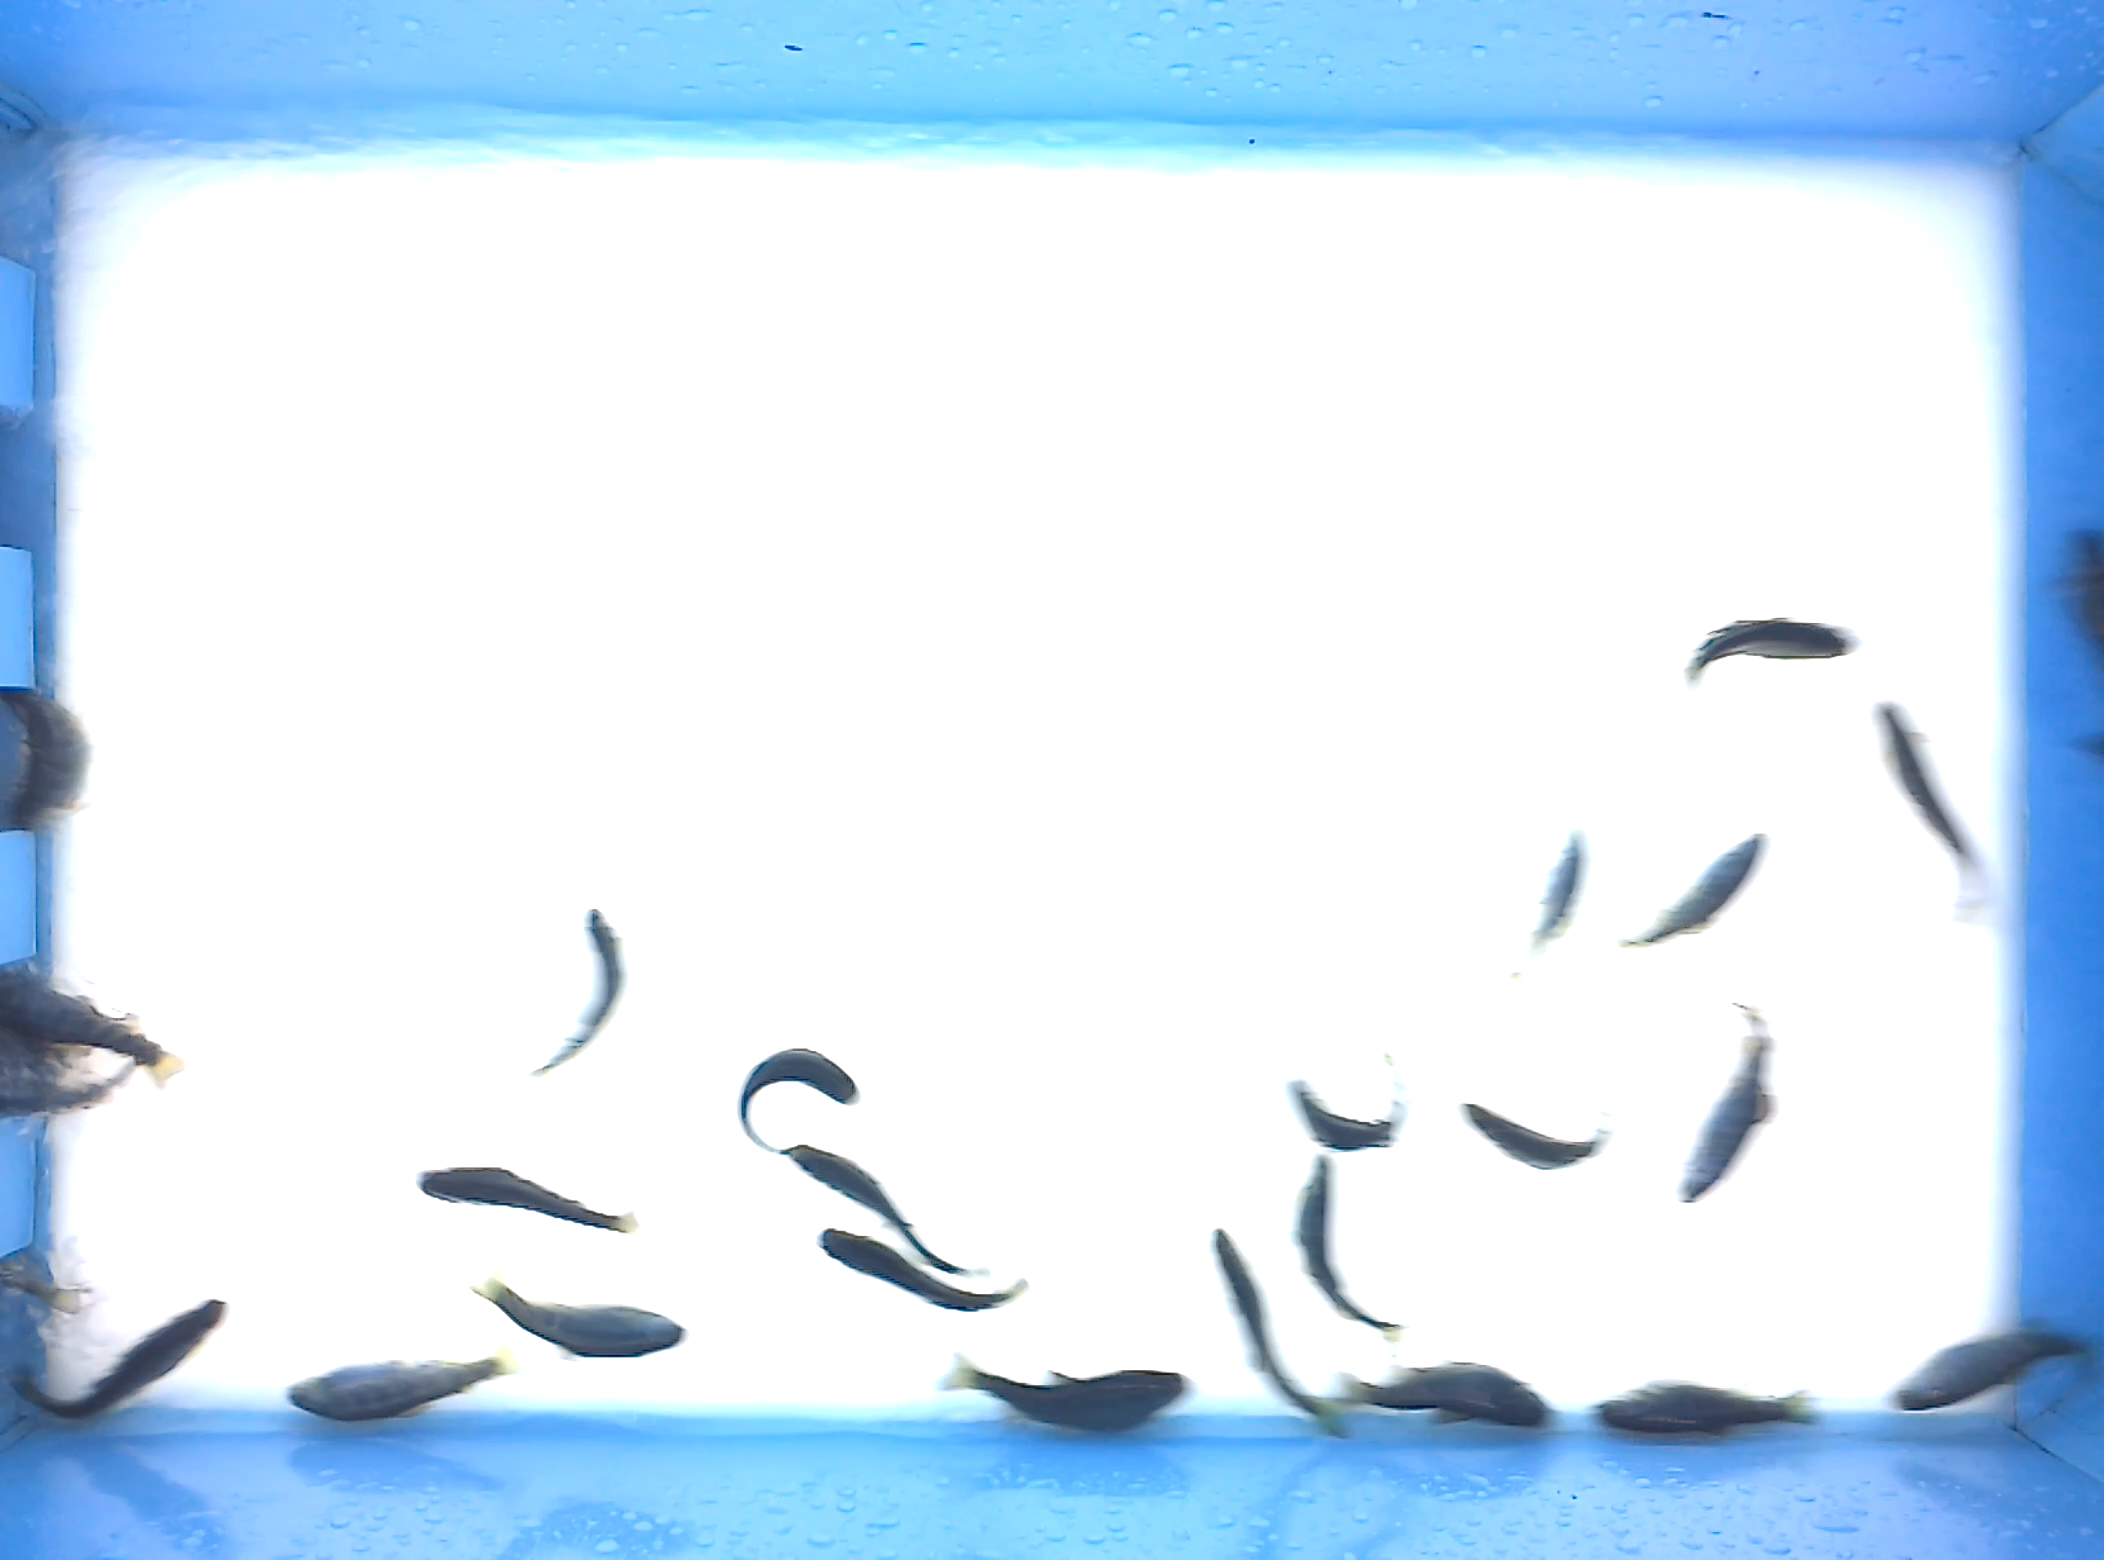fish: (1209, 1226, 1350, 1440), (1866, 698, 2001, 918), (778, 1142, 986, 1280), (3, 1298, 228, 1422), (932, 1347, 1199, 1435), (1668, 995, 1780, 1206), (1295, 1150, 1406, 1345), (465, 1272, 692, 1362), (814, 1222, 1031, 1314), (1884, 1326, 2099, 1417), (1612, 829, 1770, 952), (280, 1345, 518, 1422), (528, 905, 631, 1082), (1331, 1357, 1558, 1432), (411, 1165, 642, 1236), (1680, 614, 1865, 695), (736, 1044, 864, 1155), (1286, 1050, 1412, 1155), (1504, 829, 1589, 982), (1585, 1386, 1821, 1439), (1457, 1100, 1617, 1173)
